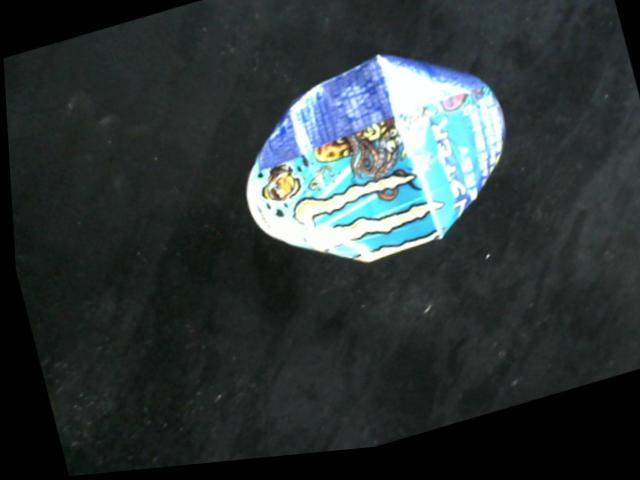can: (237, 57, 516, 275)
